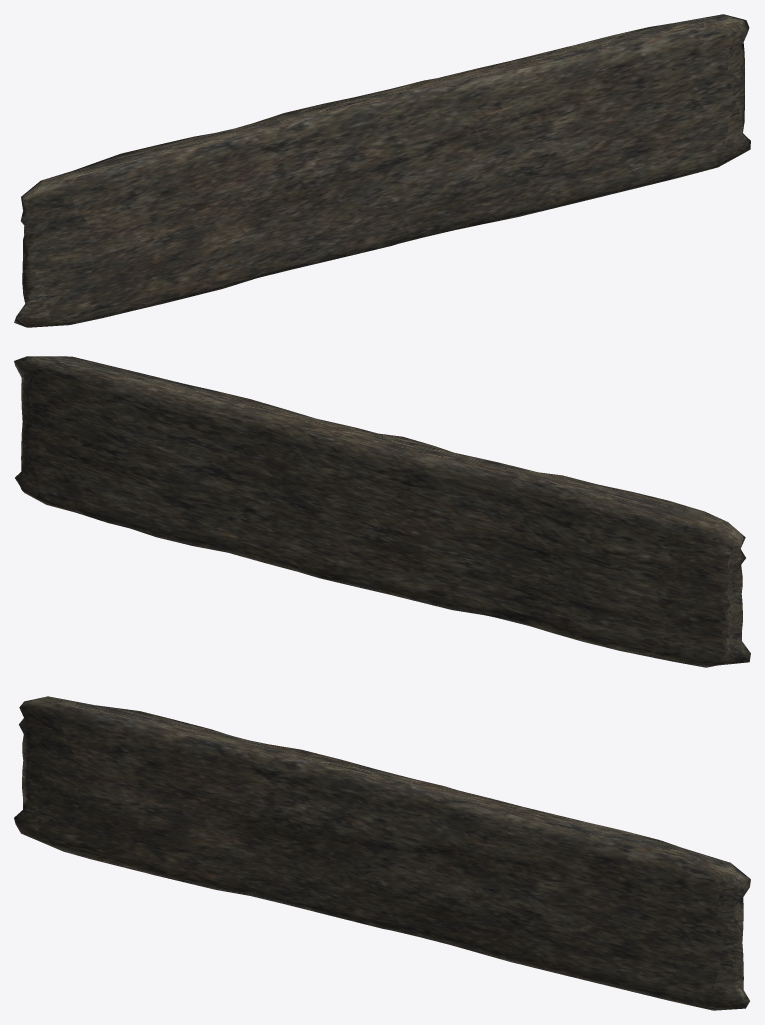
File: CaveWalls3_C.obj
The picture shows the model from 3 angles, top to bottom: view 1: azimuth 30°, elevation 25°; view 2: azimuth 150°, elevation 25°; view 3: azimuth 330°, elevation 25°; orthographic projection.
Visible parts, largest first — view 1: CaveWalls1_C; view 2: CaveWalls1_C; view 3: CaveWalls1_C.
Part boxes in pixels (<box>): CaveWalls1_C: <box>14,14,750,327</box>; CaveWalls1_C: <box>14,356,750,667</box>; CaveWalls1_C: <box>14,696,750,1010</box>.
Size of the model in its own units: 256 by 49.75 by 12.82.
Materials: 1 (1 with a texture image).
